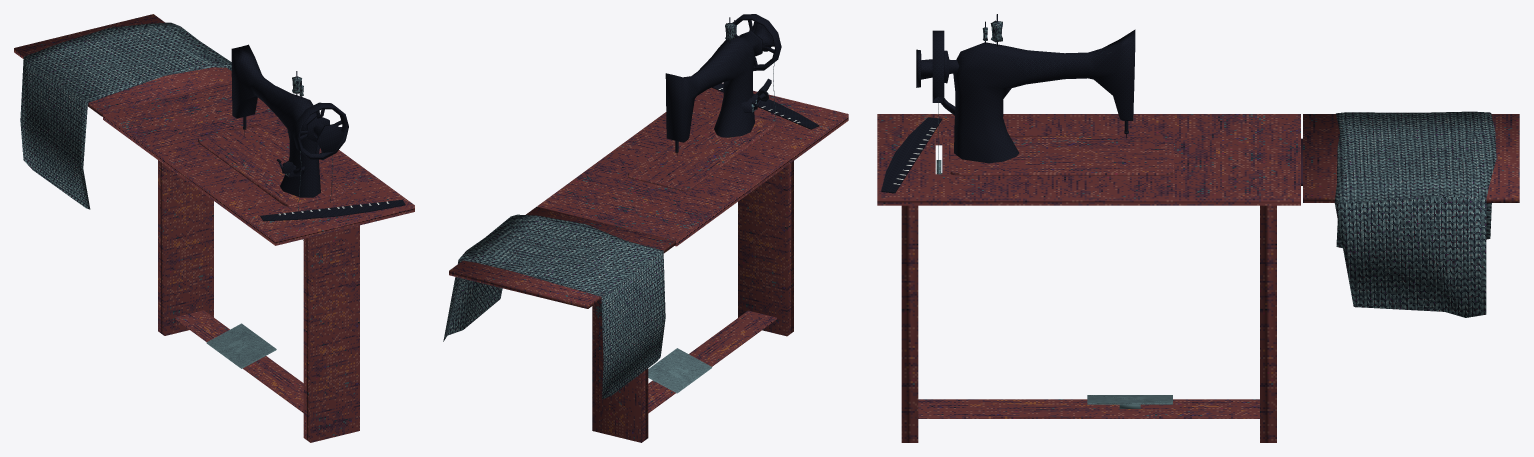
File: SM_MayMay_001.fbx
The picture shows the model from 3 angles, left to right: view 1: azimuth 30°, elevation 25°; view 2: azimuth 150°, elevation 25°; view 3: azimuth 270°, elevation 25°; orthographic projection. The views are drawn at different scales.
Parts seen in each view (by area): view 1: SM_MayMay_CB_001; view 2: SM_MayMay_CB_001; view 3: SM_MayMay_CB_001.
Part boxes in pixels (x1,y1,x2,y2): SM_MayMay_CB_001: (14,14,414,442); SM_MayMay_CB_001: (443,14,848,442); SM_MayMay_CB_001: (877,14,1519,442).
Size of the model in its own units: 100 by 193 by 271.
1 material, 1 textured.
